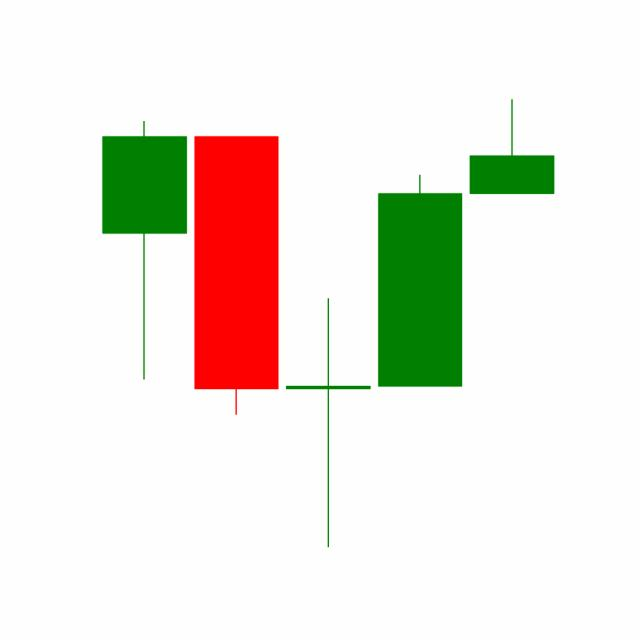Marubozu: (373, 172, 467, 389)
